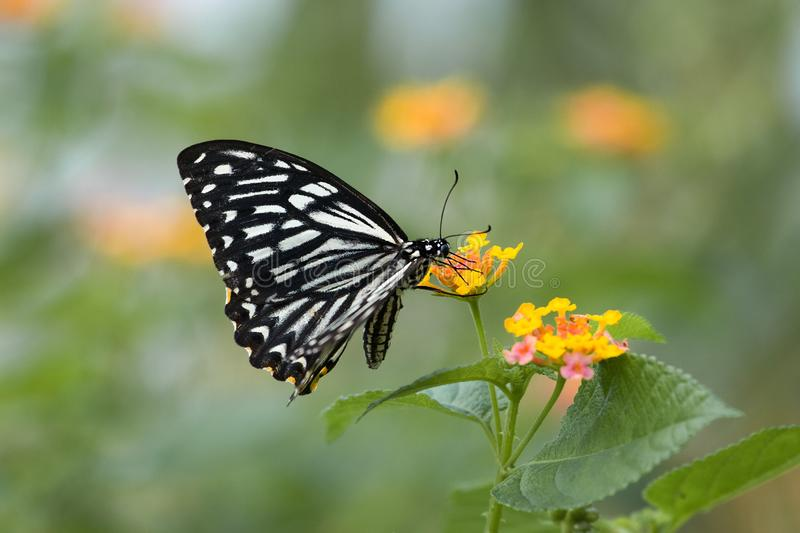insect: (176, 134, 453, 402)
